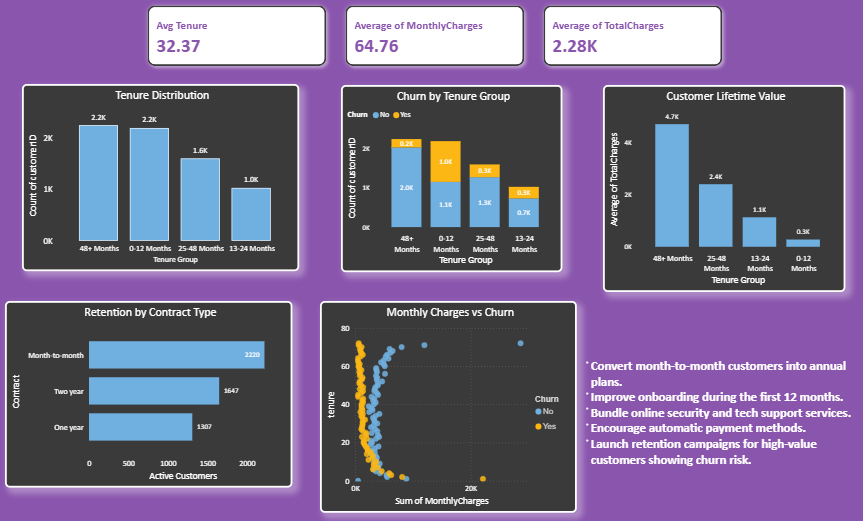

The page's visual inventory and layout, read from the dashboard file:
{"tool":"powerbi","page":{"name":"RETENTION & CUSTOMER LIFETIME","canvas":[2000,1500],"ordinal":2},"visuals":[{"type":"cardVisual","fields":{"Data":["Measure Table.Avg Tenure","Avg(Telco-Customer-Churn.MonthlyCharges)","Avg(Telco-Customer-Churn.TotalCharges)"]},"box":[252.2,0,1017.4,159.4],"z":0},{"type":"clusteredColumnChart","title":"Tenure Distribution","fields":{"Category":["Telco-Customer-Churn.Tenure Group"],"Y":["Count(Telco-Customer-Churn.customerID)"]},"box":[71.6,159.5,462.2,312.2],"z":1000},{"type":"columnChart","title":"Churn by Tenure Group","fields":{"Category":["Telco-Customer-Churn.Tenure Group"],"Y":["CountNonNull(Telco-Customer-Churn.customerID)"],"Series":["Telco-Customer-Churn.Churn"]},"box":[604.1,162.2,368.9,312.2],"z":2000},{"type":"barChart","title":"Retention by Contract Type","fields":{"Category":["Telco-Customer-Churn.Contract"],"Y":["Measure Table.Active Customers"]},"box":[42.5,521.2,478.8,311.2],"z":3000},{"type":"columnChart","title":"Customer Lifetime Value","fields":{"Category":["Telco-Customer-Churn.Tenure Group"],"Y":["Avg(Telco-Customer-Churn.TotalCharges)"]},"box":[1040.5,162.2,404.1,344.6],"z":4000},{"type":"scatterChart","title":"Monthly Charges vs Churn","fields":{"X":["Sum(Telco-Customer-Churn.MonthlyCharges)"],"Series":["Telco-Customer-Churn.Churn"],"Y":["Telco-Customer-Churn.tenure"]},"box":[567.6,521.6,428.4,352.7],"z":5000},{"type":"textbox","box":[995.9,612.2,467.6,220.3],"z":6000}]}

Visuals, with their boxes on the page's 2000x1500 design canvas (x1, y1, x2, y2). These are canvas units, not pixel positions in the 863x521 screenshot, which may show the page scaled, cropped or inside an application window:
cardVisual - Measure Table.Avg Tenure x Avg(Telco-Customer-Churn.MonthlyCharges): rect(252, 0, 1270, 159)
"Tenure Distribution" clusteredColumnChart: rect(72, 160, 534, 472)
"Churn by Tenure Group" columnChart: rect(604, 162, 973, 474)
"Retention by Contract Type" barChart: rect(42, 521, 521, 832)
"Customer Lifetime Value" columnChart: rect(1040, 162, 1445, 507)
"Monthly Charges vs Churn" scatterChart: rect(568, 522, 996, 874)
textbox: rect(996, 612, 1464, 832)
